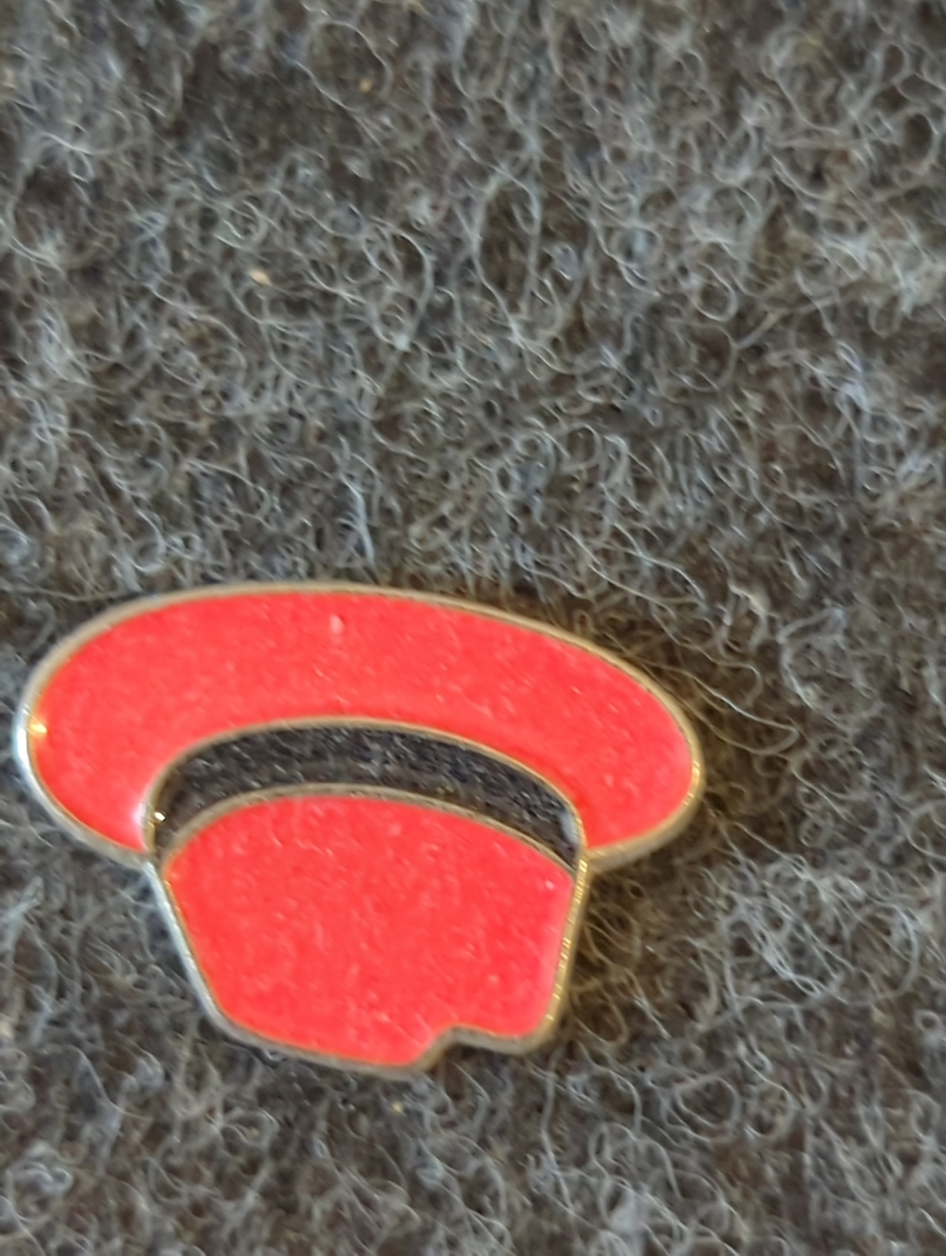Red-Hat: (14, 465, 799, 1164)
